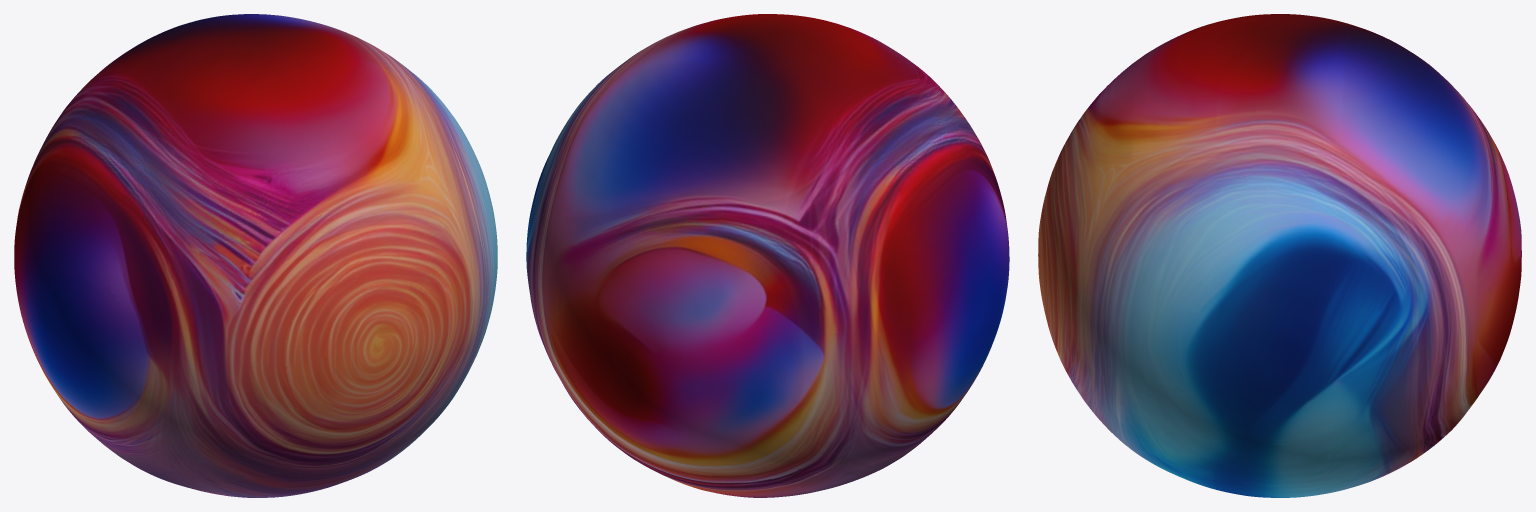
Rendered from Bubble.fbx.
The picture shows the model from 3 angles, left to right: view 1: azimuth 30°, elevation 25°; view 2: azimuth 150°, elevation 25°; view 3: azimuth 270°, elevation 25°; orthographic projection.
Visible parts, largest first — view 1: tmpwwfvvmgh.ply; view 2: tmpwwfvvmgh.ply; view 3: tmpwwfvvmgh.ply.
Boxes of the visible parts, x1=… form: tmpwwfvvmgh.ply: x1=14, y1=14, x2=497, y2=497; tmpwwfvvmgh.ply: x1=526, y1=14, x2=1009, y2=497; tmpwwfvvmgh.ply: x1=1038, y1=14, x2=1521, y2=497.
Bounding box in the file's own units: 199 × 199 × 199.
